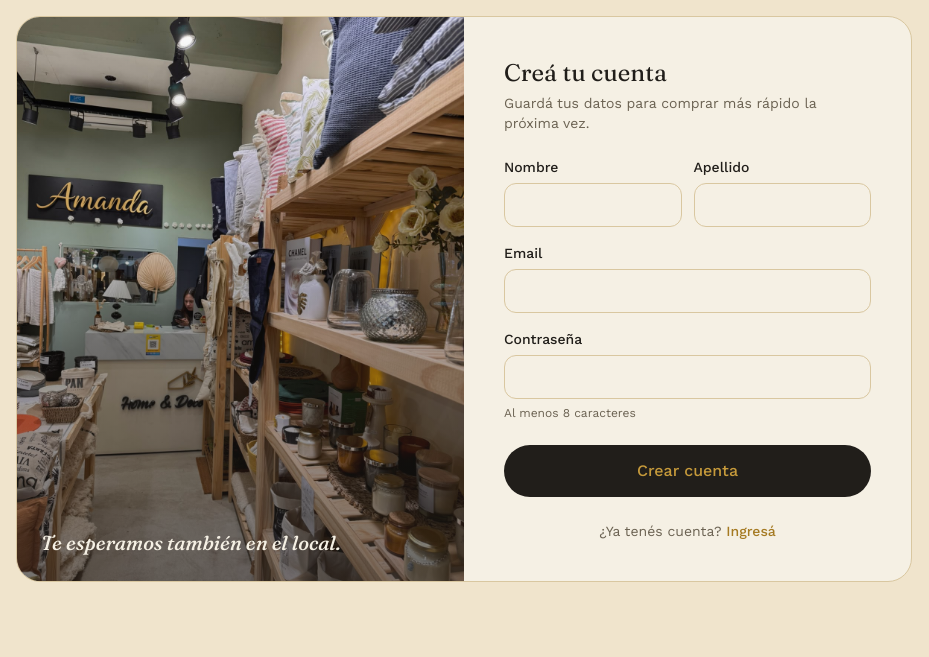
Test case: Register › muestra un error si el email ya está en uso
Type "Nueva" into the field labelled "Nombre". click: point(593, 205)
box: [504, 183, 682, 227]
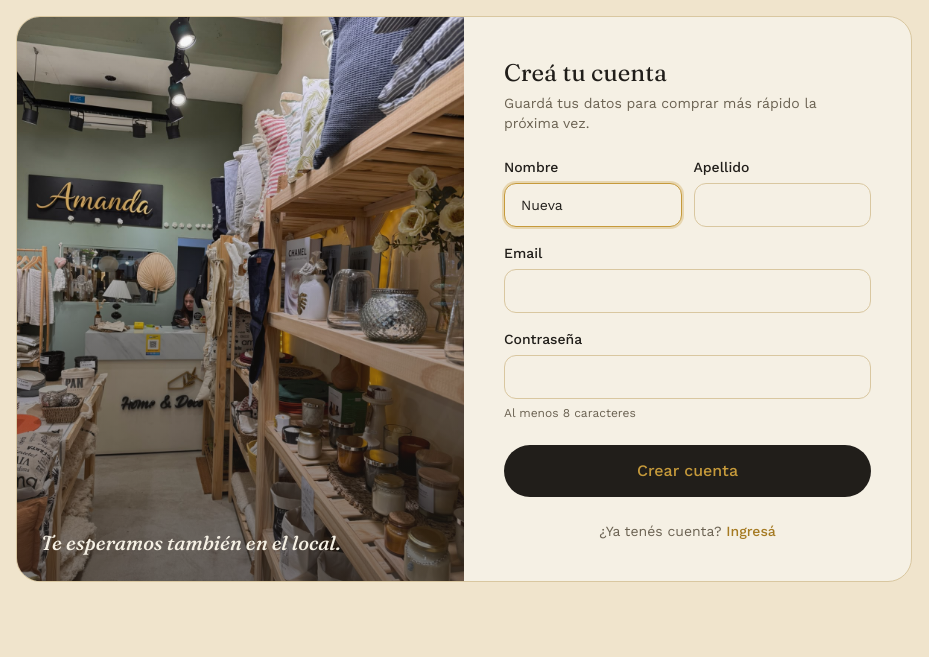
Type "Cuenta" into the field labelled "Apellido". click: point(782, 205)
box: [694, 183, 871, 227]
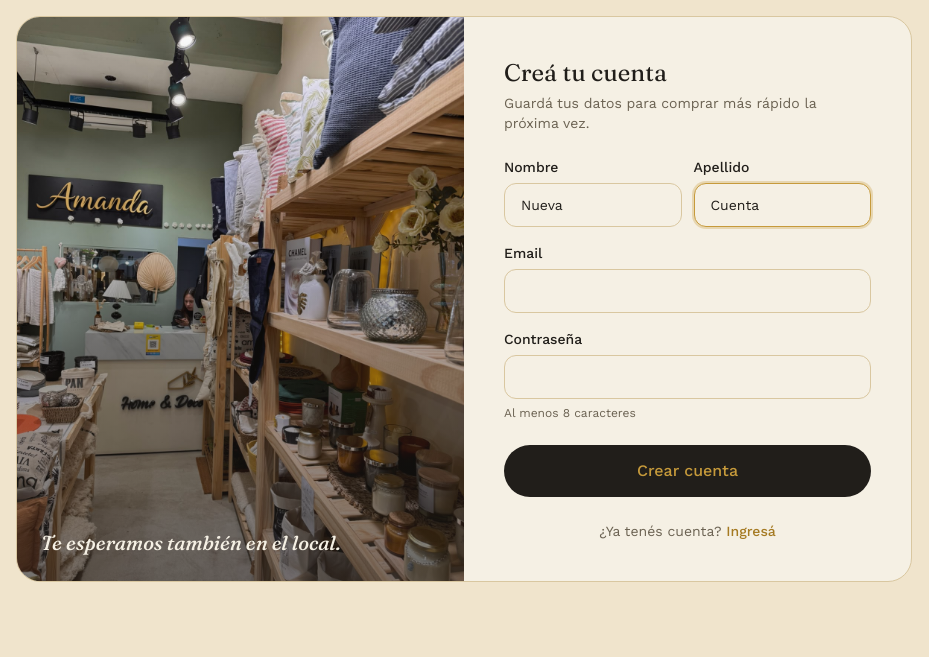
Type "nueva@example.com" into the field labelled "Email". click: point(688, 291)
box: [504, 269, 871, 313]
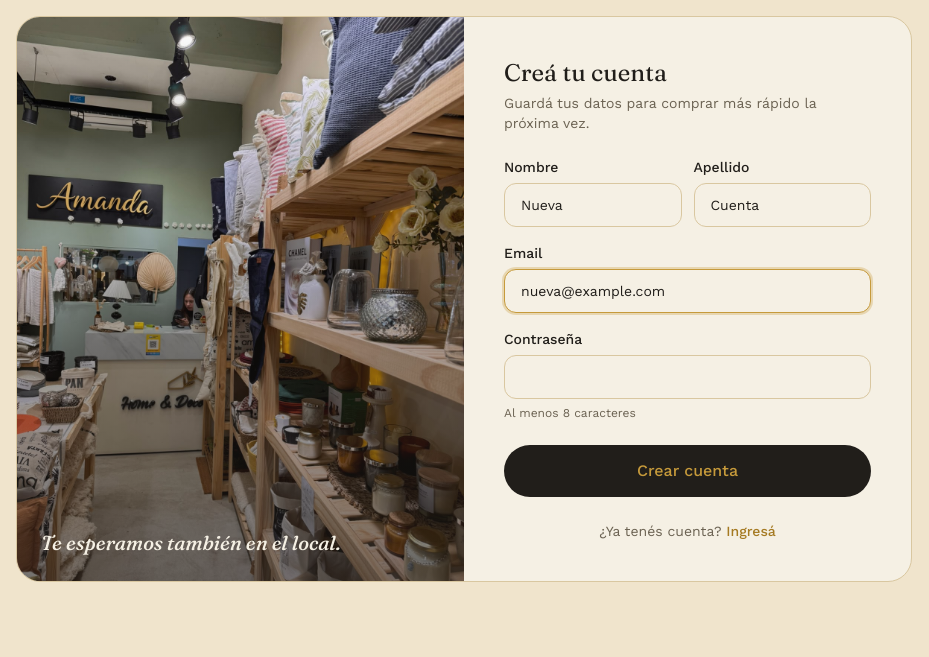
Type "supersecreto123" into the password field labelled "Contraseña". click: point(688, 377)
box: [504, 355, 871, 399]
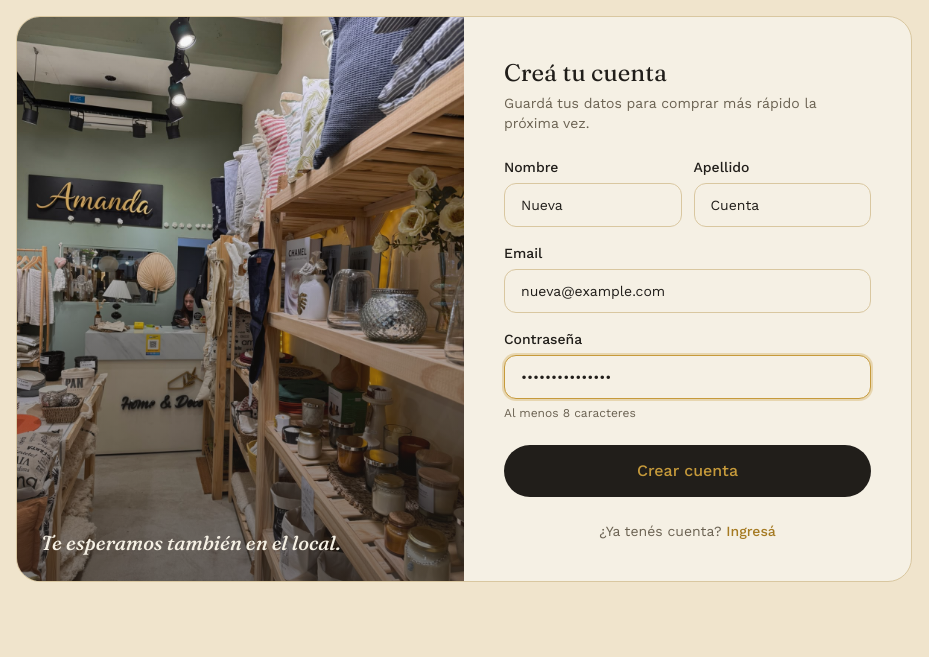
Click the button "Crear cuenta". click: point(688, 471)
box: [504, 445, 871, 497]
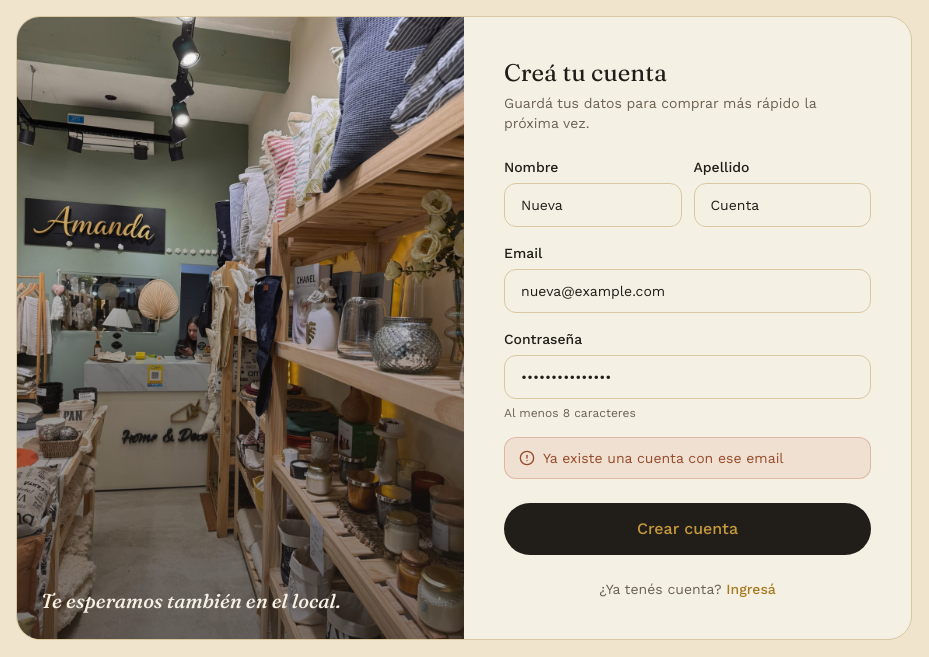
Expected: the text "Ya existe una cuenta con ese email" is shown, [543, 448, 784, 468]
